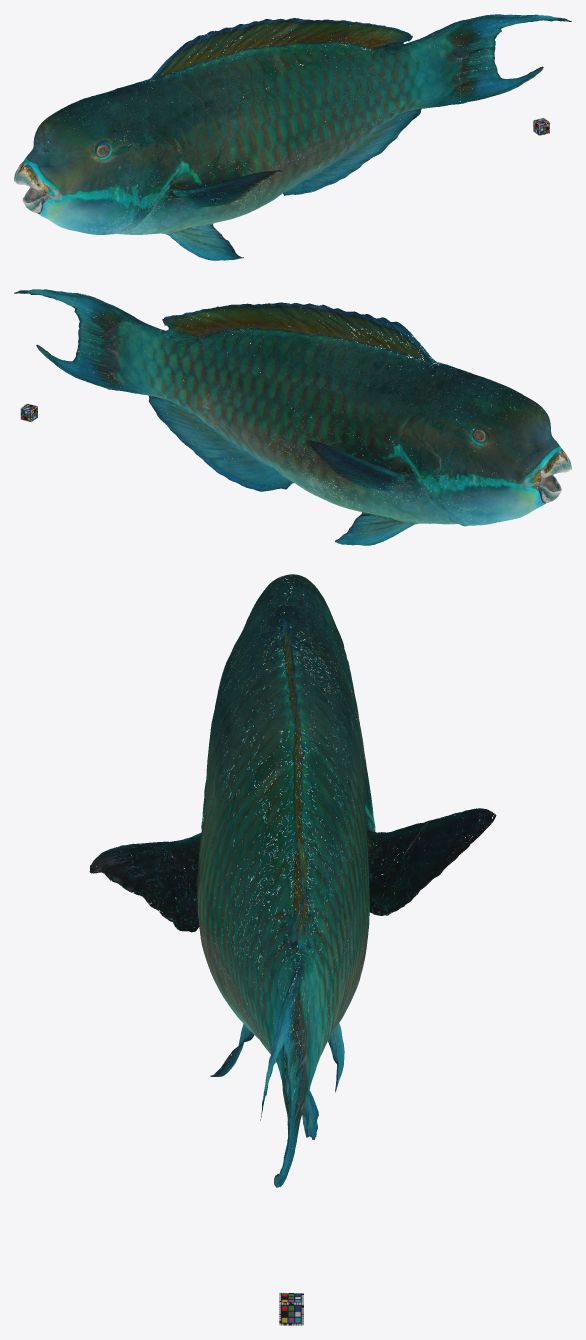
The model's file is scan_steephead.glb.
3 renders of one model, top to bottom at view 1: azimuth 30°, elevation 25°; view 2: azimuth 150°, elevation 25°; view 3: azimuth 270°, elevation 25°, orthographic. The views are drawn at different scales.
Visible parts, largest first — view 1: Object_6, Object_12, Object_18; view 2: Object_18, Object_12, Object_6; view 3: Object_12, Object_6, Object_18.
Part boxes in pixels (x1,y1,x2,y2): Object_6: (15,14,556,260); Object_12: (14,14,571,260); Object_18: (14,14,570,258); Object_18: (14,289,571,545); Object_12: (14,289,571,545); Object_6: (33,289,571,545); Object_12: (90,574,496,1187); Object_6: (91,575,494,1186); Object_18: (89,574,495,1187).
Bounding box in the file's own units: 16.23 × 6.19 × 5.2.
4 materials, 4 textured.
